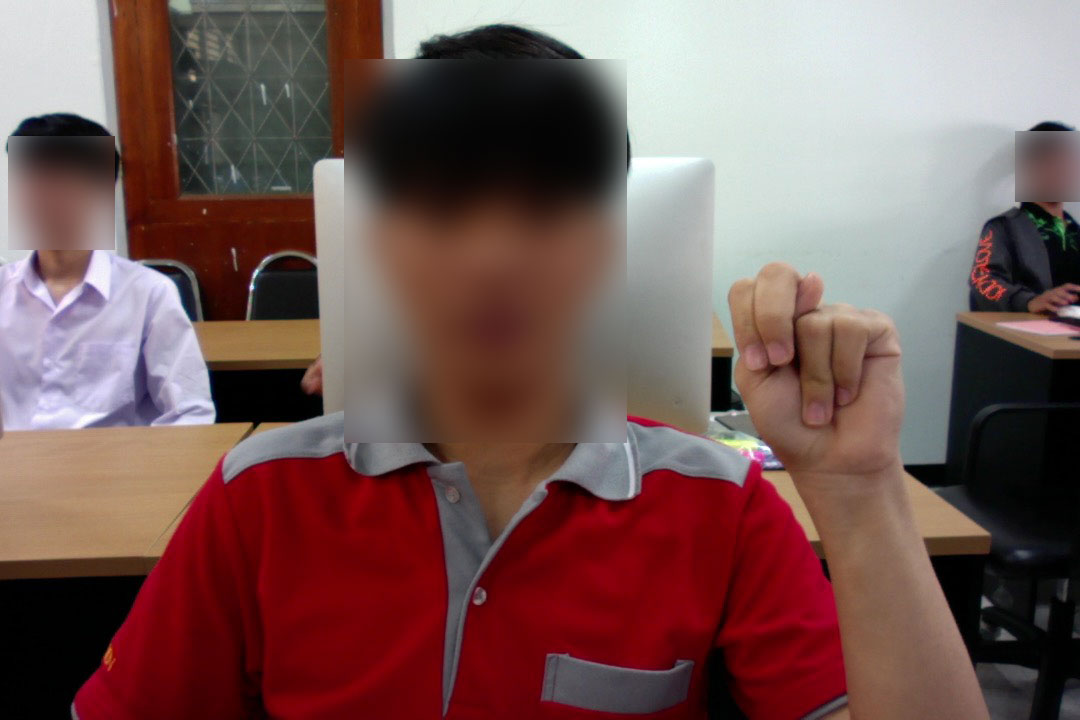nor: (719, 255, 915, 496)
